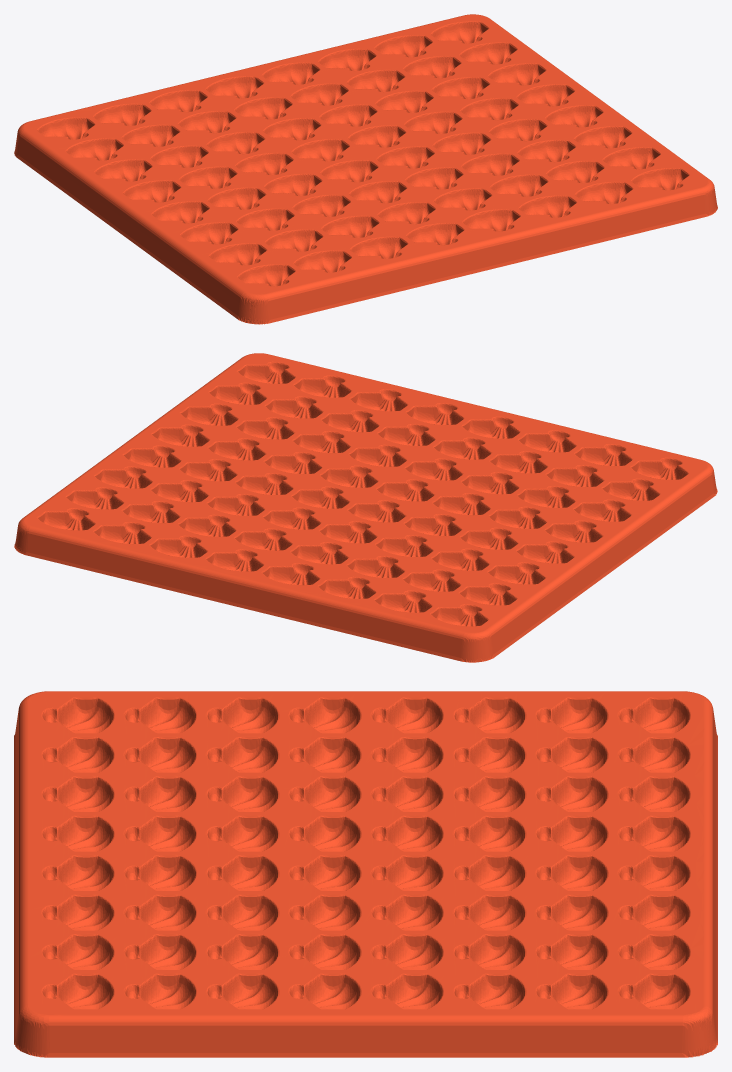
Rendered from mold.glb.
3 renders of one model, top to bottom at view 1: azimuth 30°, elevation 25°; view 2: azimuth 150°, elevation 25°; view 3: azimuth 270°, elevation 25°, orthographic. The views are drawn at different scales.
Parts seen in each view (by area): view 1: geometry_0; view 2: geometry_0; view 3: geometry_0.
Part boxes in pixels (<box>): geometry_0: <box>14,14,717,324</box>; geometry_0: <box>14,353,717,662</box>; geometry_0: <box>14,691,717,1057</box>.
Bounding box in the file's own units: 0.1985 × 0.0102 × 0.1763.
